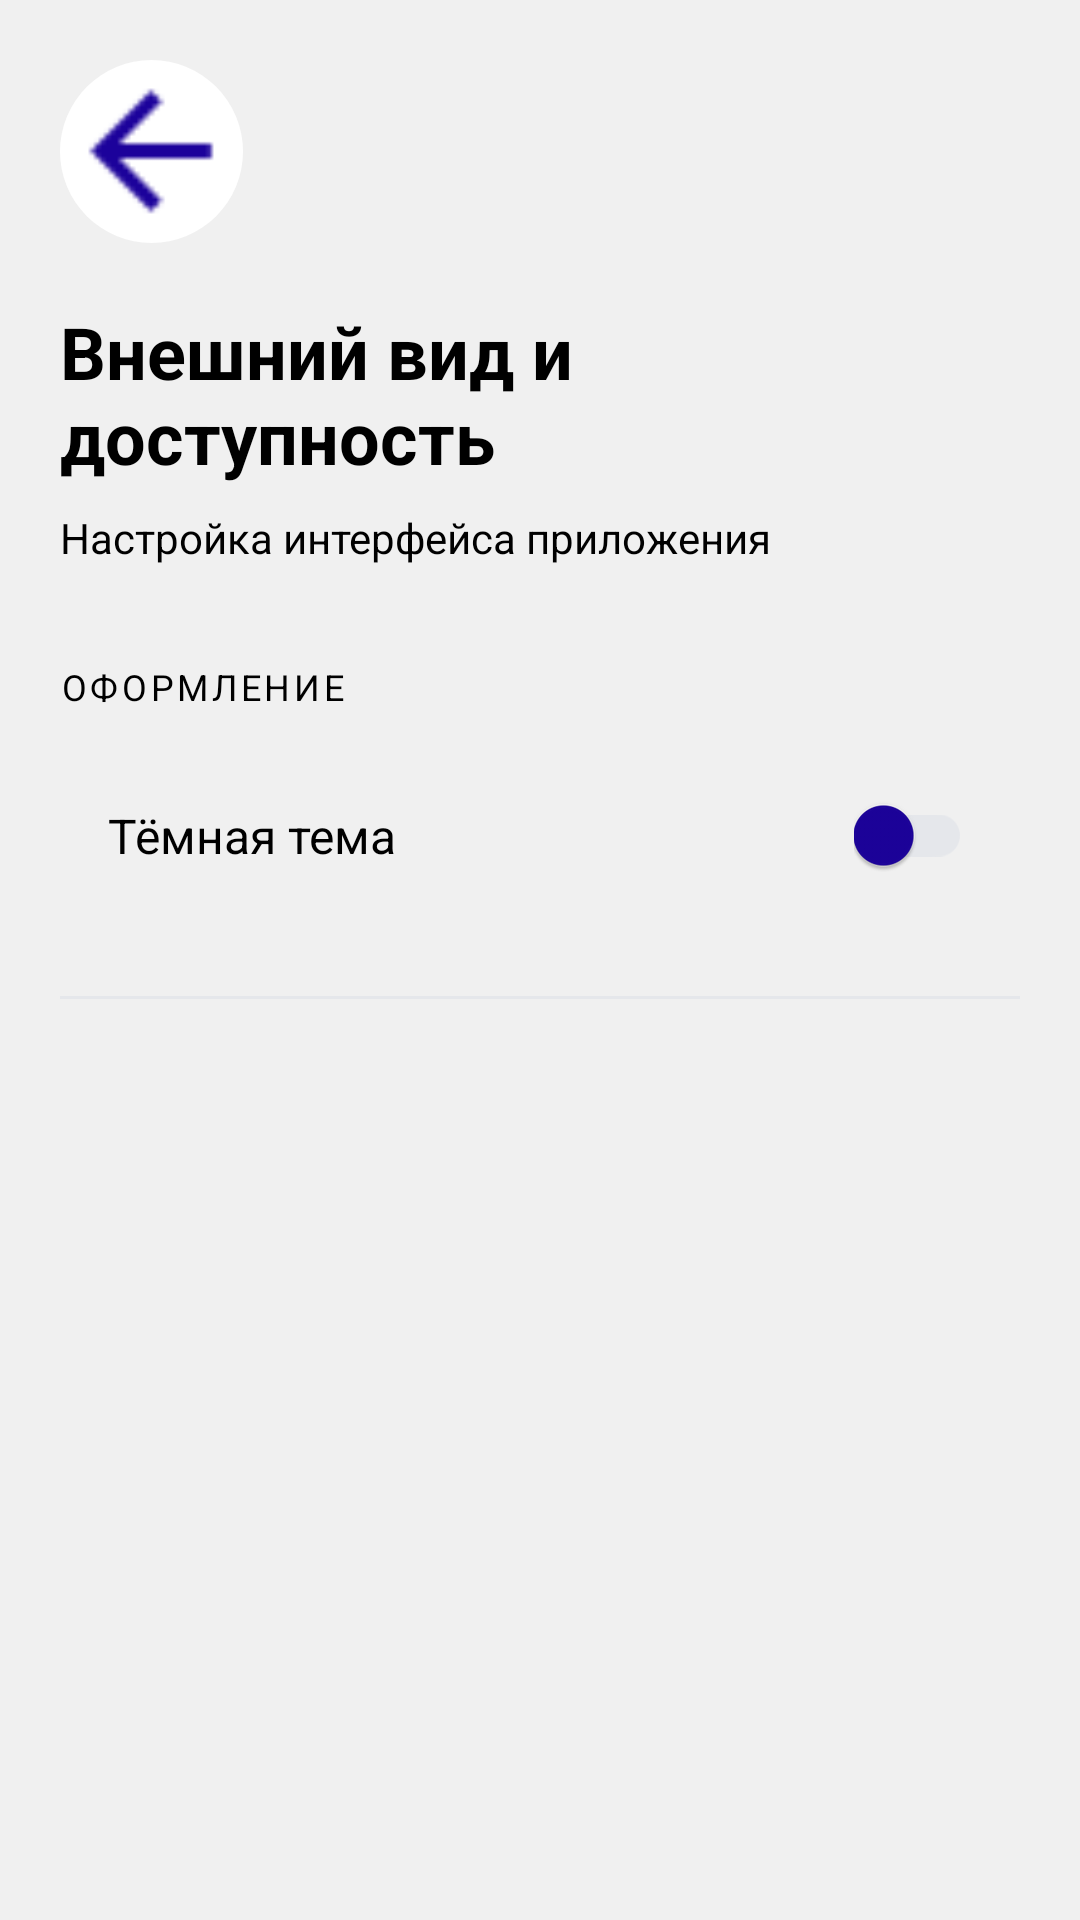

Icon bounding boxes for this 1080w x 1920h phone screenshot, format (x1, y1, x2, y2):
back: (61, 61, 241, 241)
